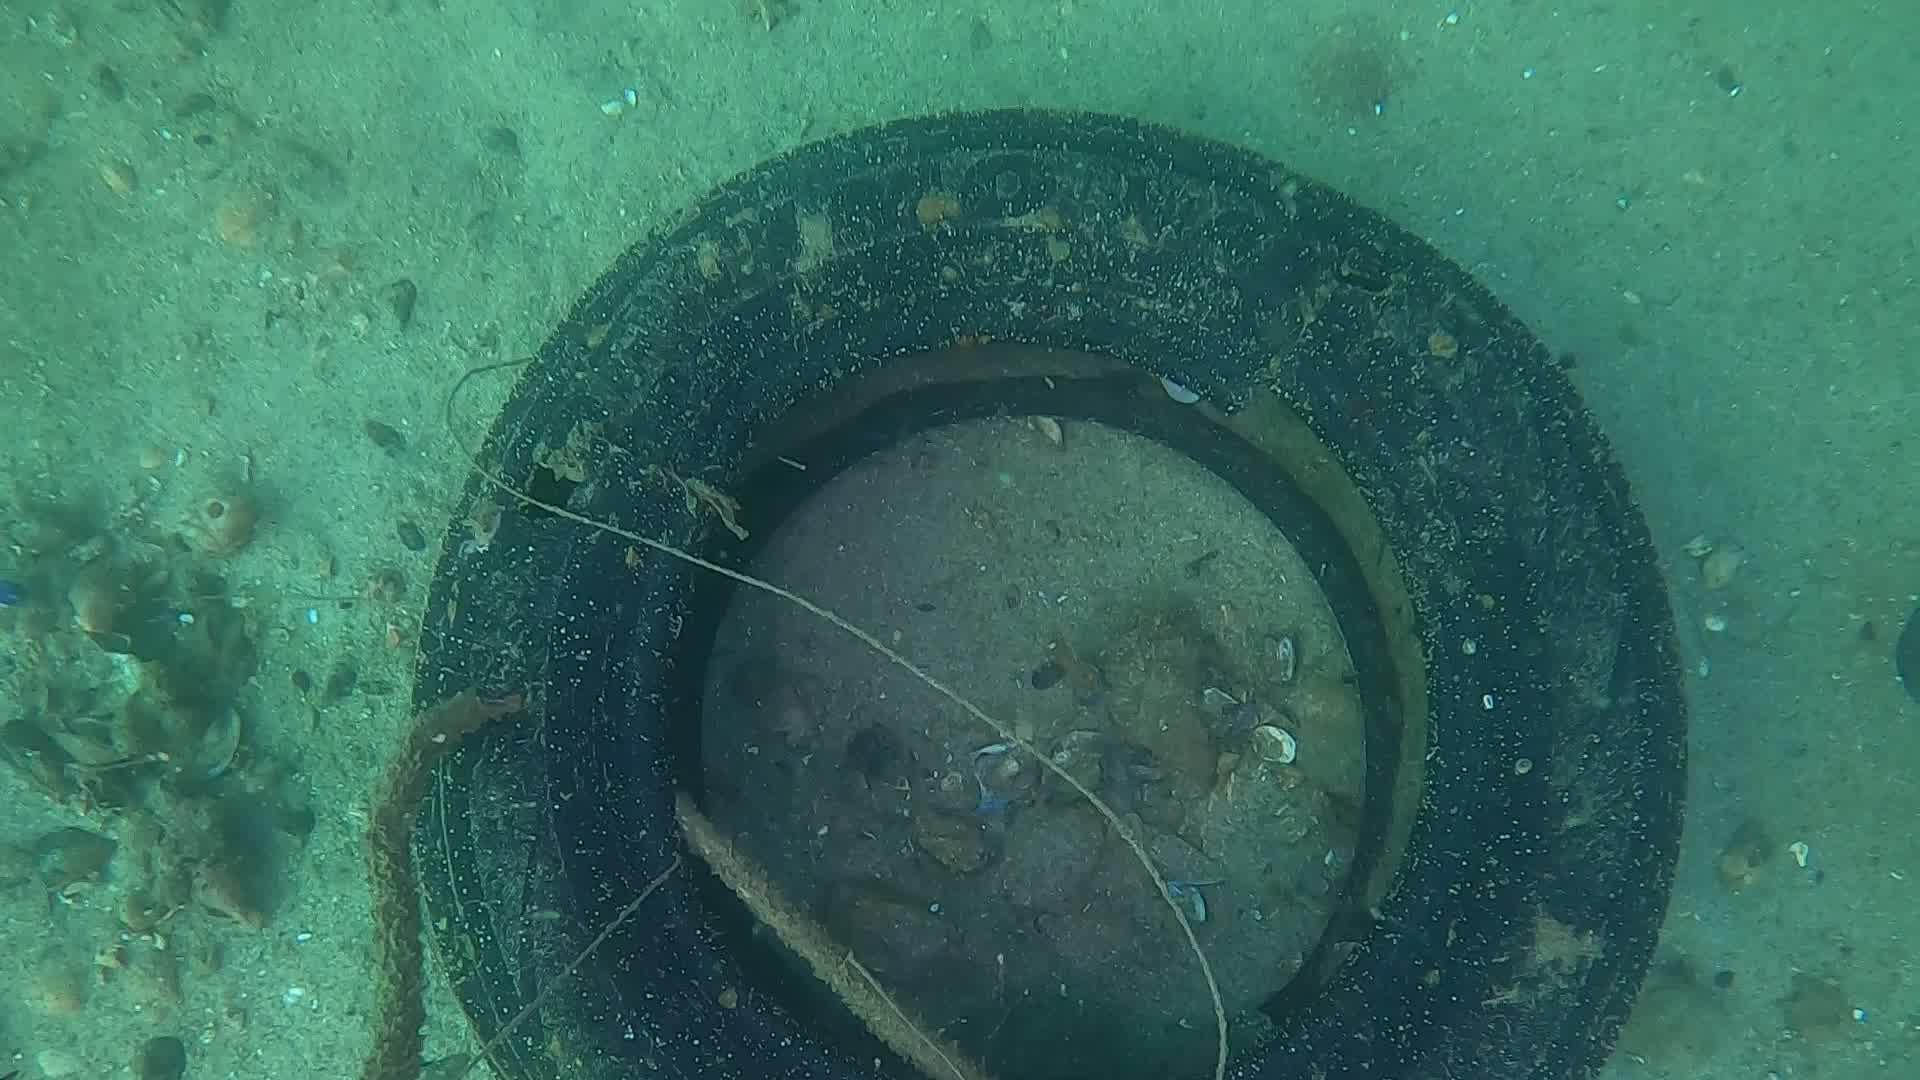rope: (670, 785, 977, 1080), (357, 691, 487, 1080)
tire: (404, 108, 1691, 1080)
